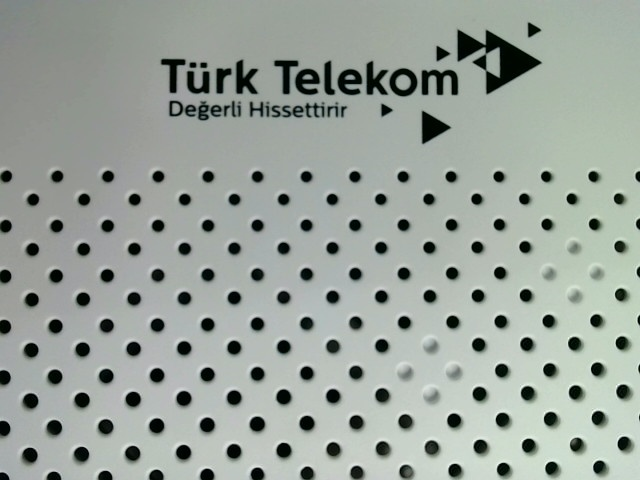AQ_TURKTelekom: (160, 17, 557, 146)
